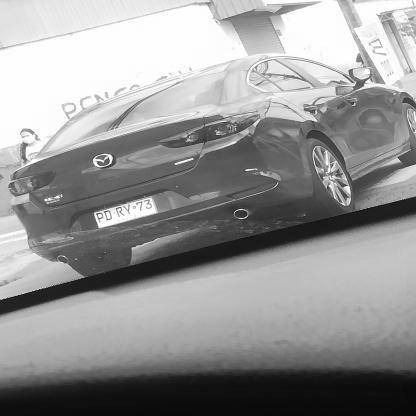Patente: (91, 195, 162, 232)
